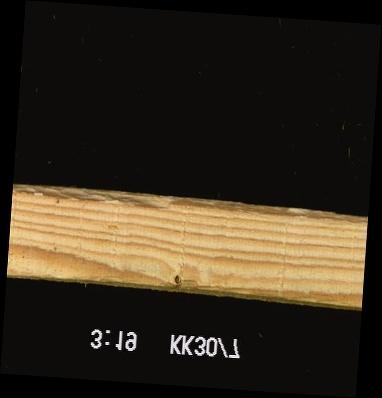dry_knot: (170, 271, 187, 288)
wave: (12, 190, 367, 221)
